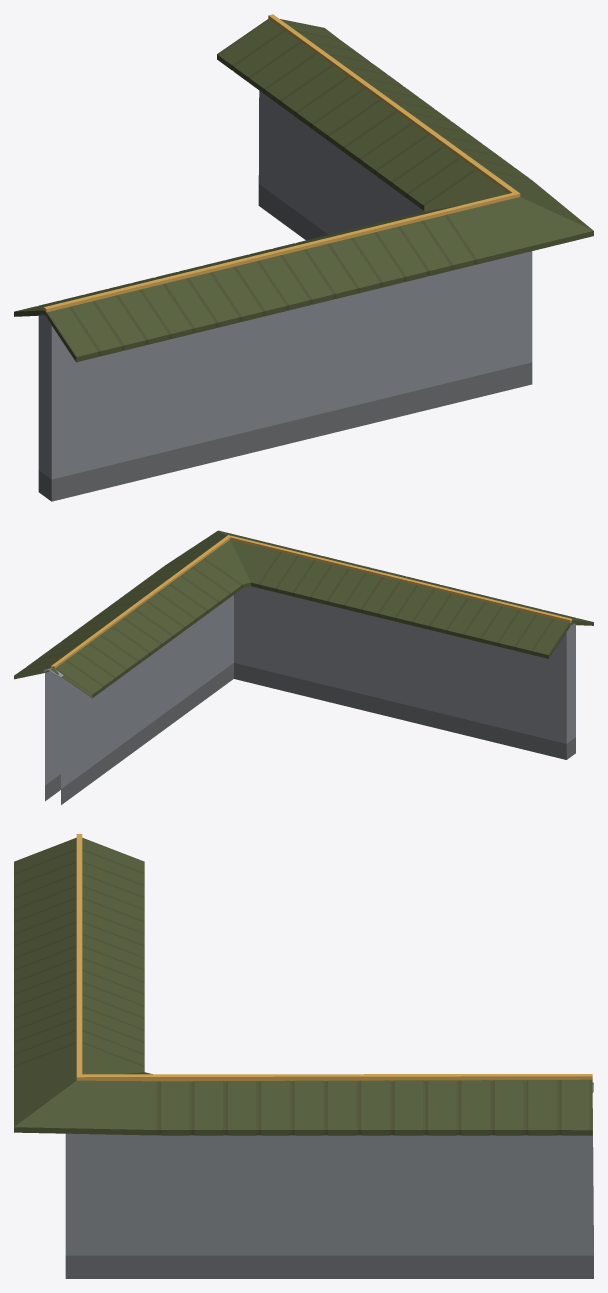
File: Wall_2.fbx
3 renders of one model, top to bottom at view 1: azimuth 30°, elevation 25°; view 2: azimuth 150°, elevation 25°; view 3: azimuth 270°, elevation 25°, orthographic. The views are drawn at different scales.
Visible parts, largest first — view 1: Wall_2; view 2: Wall_2; view 3: Wall_2.
Boxes of the visible parts, x1,y1,x2,y2 form: Wall_2: [14, 14, 593, 501]; Wall_2: [14, 530, 593, 804]; Wall_2: [14, 834, 593, 1278].
Bounding box in the file's own units: 684 × 235 × 624.
